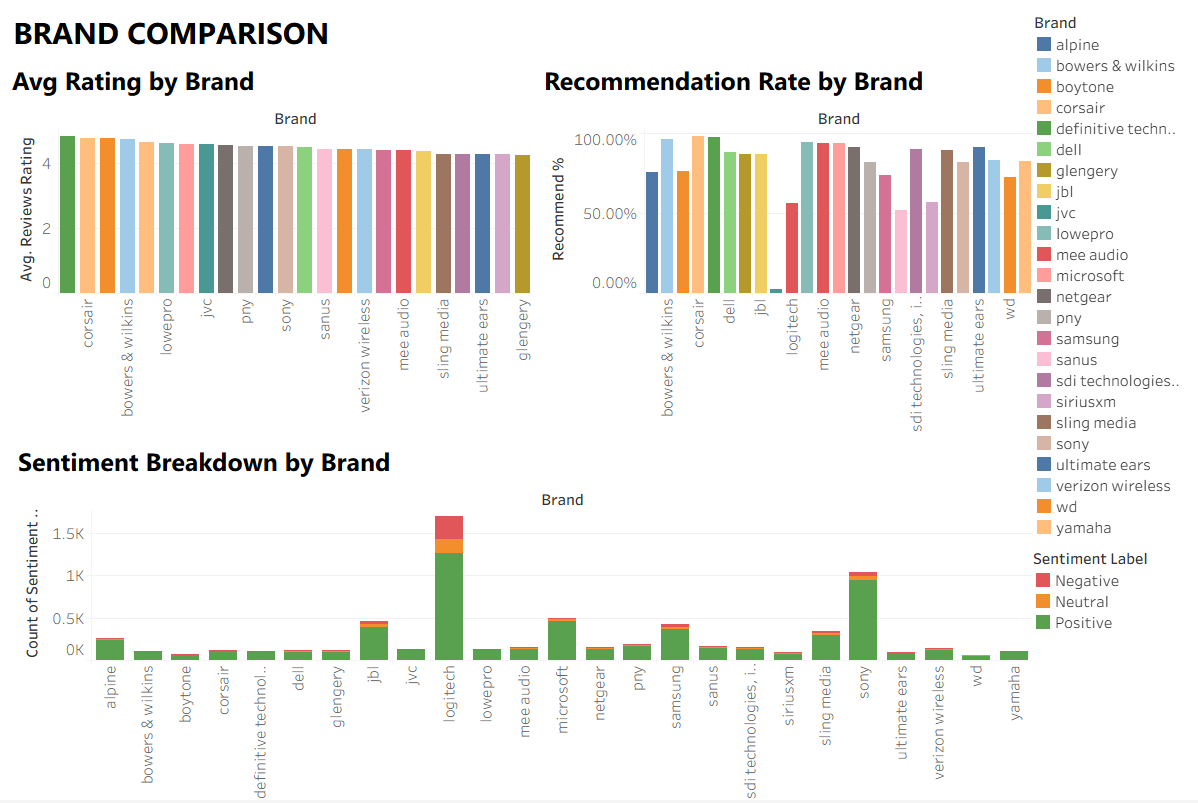

The dashboard page shown, as its layout file describes it:
{"tool":"tableau","page":{"name":"Dashboard 3","canvas":[1200,800],"ordinal":2},"visuals":[{"type":"title","box":[8,8,1024,48]},{"type":"legend","title":"Sheet 12","param":"[federated.1icez050jek3vm11lolbb1hnjdck].[none:brand:nk]","box":[1032,8,160,534]},{"type":"worksheet","title":"Sheet 12","mark":"Bar","rows":["reviews_rating"],"cols":["brand"],"box":[6,55,531.8,382]},{"type":"worksheet","title":"Sheet 13","mark":"Automatic","rows":["Calculation_190558586061221890"],"cols":["brand"],"box":[537.8,55,501,382]},{"type":"worksheet","title":"Sheet 14","mark":"Automatic","rows":["sentiment_label"],"cols":["brand"],"box":[16,440,1019,360]},{"type":"legend","title":"Sheet 14","param":"[federated.1icez050jek3vm11lolbb1hnjdck].[none:sentiment_label:nk]","box":[1035,548,167,141]}]}

Visuals, with their boxes in screenshot pixels (x1, y1, x2, y2), scaled from the page's 1200x800 canvas onto the 1198x803 screenshot:
title: <bbox>8, 8, 1030, 56</bbox>
"Sheet 12" legend: <bbox>1030, 8, 1190, 544</bbox>
"Sheet 12" worksheet (Bar marks): <bbox>6, 55, 537, 439</bbox>
"Sheet 13" worksheet: <bbox>537, 55, 1037, 439</bbox>
"Sheet 14" worksheet: <bbox>16, 442, 1033, 802</bbox>
"Sheet 14" legend: <bbox>1033, 550, 1197, 692</bbox>
